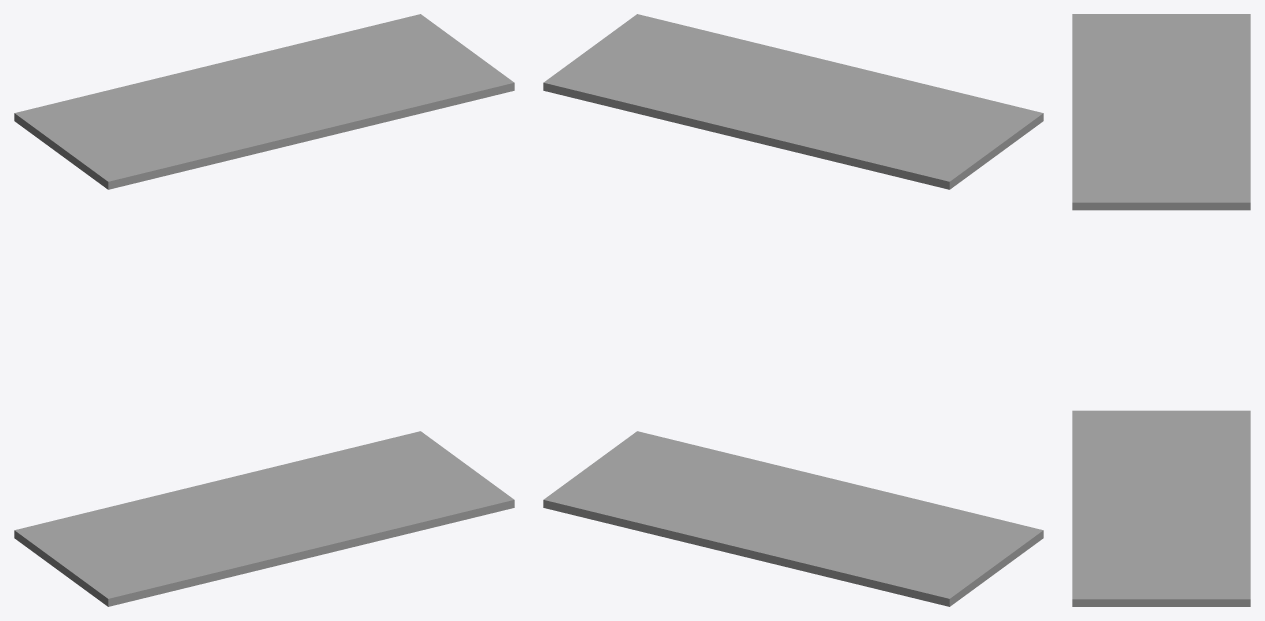
Rendered from meuble_68fb5e229abe2.glb.
The picture shows the model from 3 angles, left to right: view 1: azimuth 30°, elevation 25°; view 2: azimuth 150°, elevation 25°; view 3: azimuth 270°, elevation 25°; orthographic projection. The views are drawn at different scales.
Visible parts, largest first — view 1: world; view 2: world; view 3: world.
Part boxes in pixels (<box>): world: <box>14,14,514,606</box>; world: <box>543,14,1043,606</box>; world: <box>1072,14,1250,606</box>.
Size of the model in its own units: 1 by 1 by 0.4.
Materials: 1 (1 with a texture image).
